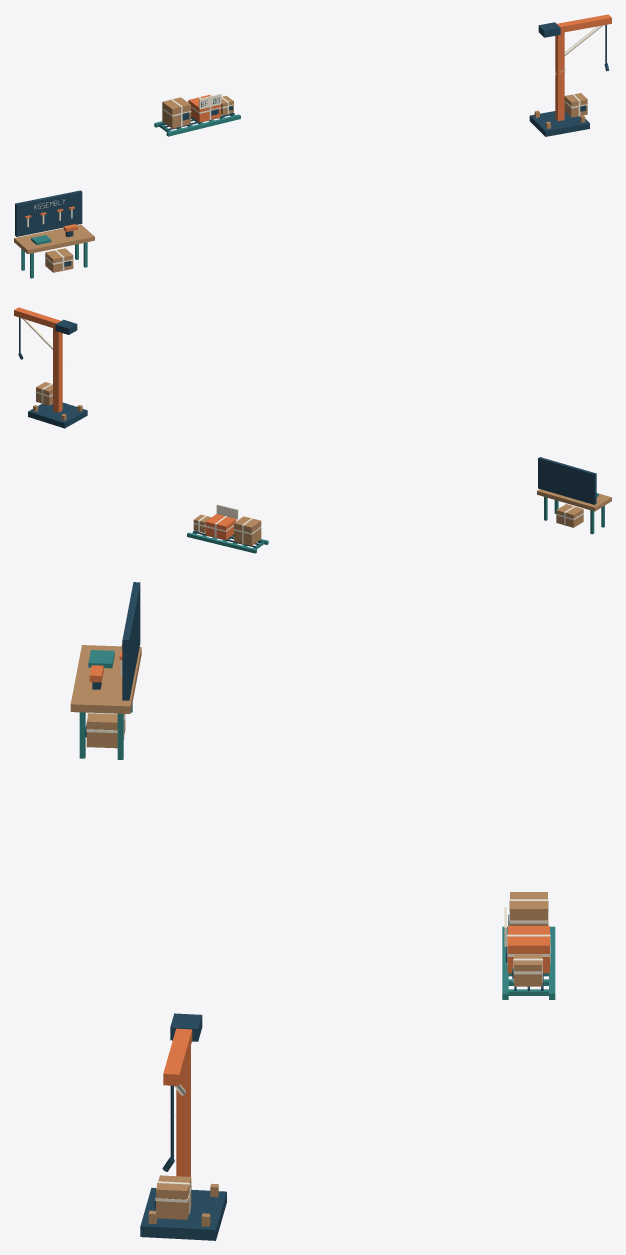
The model's file is beaconfire.glb.
The picture shows the model from 3 angles, top to bottom: view 1: azimuth 30°, elevation 25°; view 2: azimuth 150°, elevation 25°; view 3: azimuth 270°, elevation 25°; orthographic projection. The views are drawn at different scales.
Parts seen in each view (by area): view 1: static_detail_navy, static_detail_wood, static_detail_orange, static_detail_ivory, static_detail_teal; view 2: static_detail_navy, static_detail_wood, static_detail_orange, static_detail_ivory, static_detail_teal; view 3: static_detail_wood, static_detail_navy, static_detail_orange, static_detail_teal, static_detail_ivory.
Part boxes in pixels (box(x1,y1,x2,y2)): static_detail_navy: box(15, 22, 609, 266); static_detail_wood: box(14, 93, 587, 272); static_detail_orange: box(25, 14, 611, 231); static_detail_ivory: box(27, 25, 603, 271); static_detail_teal: box(21, 114, 240, 278); static_detail_navy: box(18, 317, 596, 547); static_detail_wood: box(33, 382, 611, 545); static_detail_orange: box(14, 307, 236, 540); static_detail_ivory: box(22, 318, 583, 544); static_detail_teal: box(187, 493, 604, 553); static_detail_wood: box(70, 645, 547, 1226); static_detail_navy: box(85, 582, 543, 1240); static_detail_orange: box(89, 643, 549, 1176); static_detail_teal: box(79, 650, 555, 999); static_detail_ivory: box(86, 660, 550, 1213).
Size of the model in its own units: 18.8 by 2.98 by 6.88.
